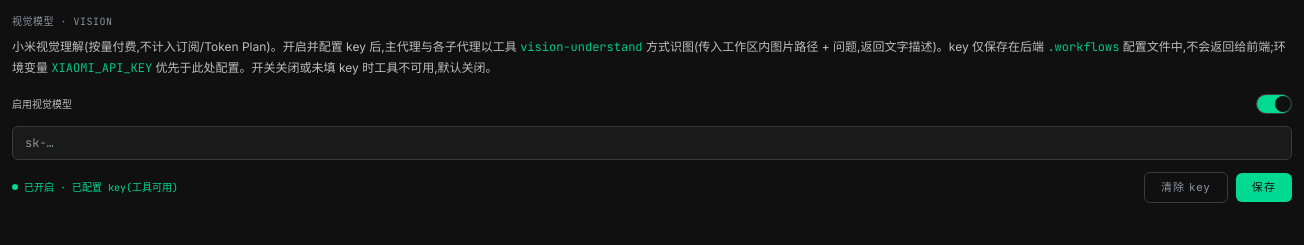
Scenario: VisionPanel 视觉模型面板 › 显式清除 key:两步确认(首次点击不提交,再次点击才提交 { enabled: true, apiKey: "" })
The image size is (1304, 245).
Click the button "清除 key" at (1186, 187), box x1=1144 y1=172 x2=1228 y2=202
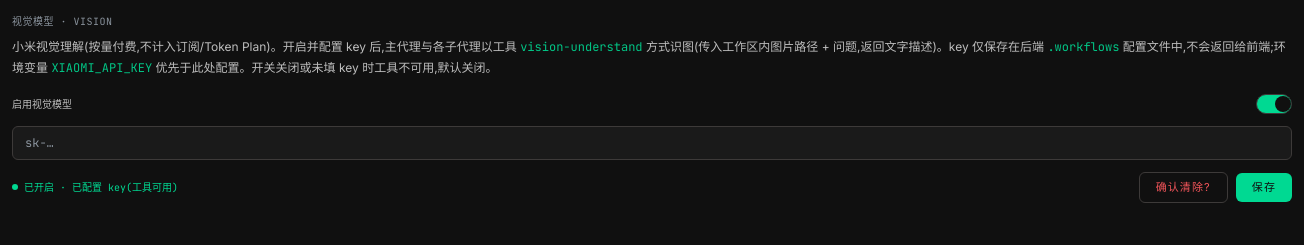
Expected: the button "确认清除?" is shown
# 再次点击:执行清空
Click the button "确认清除?" at (1183, 187), box x1=1139 y1=172 x2=1228 y2=202
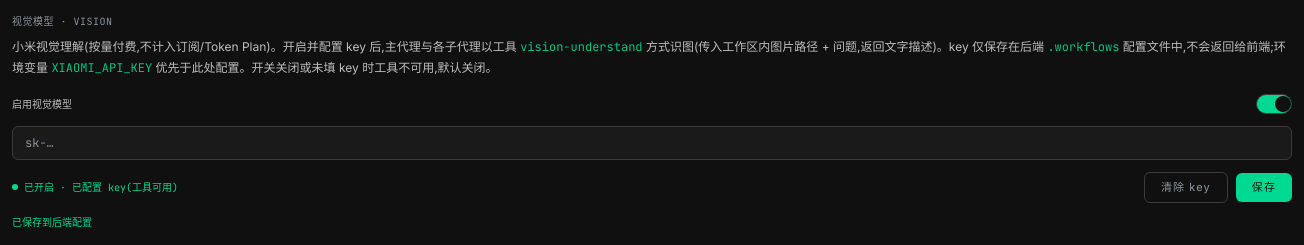
Expected: the text "已保存到后端配置" is shown, x1=12 y1=216 x2=92 y2=228
